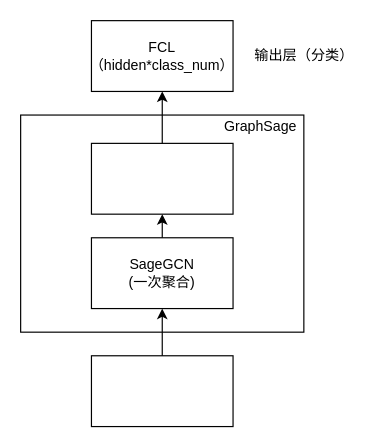
This 383x447 diagram has some shape labels left out. Here are the shapes that lost their labels. From the top down, the centre of each, then its label:
At (161,178): "SageGCN （二次聚合）".
At (161,391): "GraphInput".
